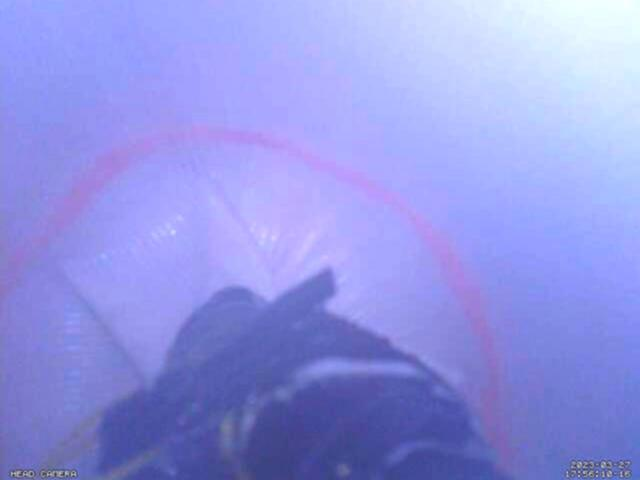head: (0, 123, 515, 480)
